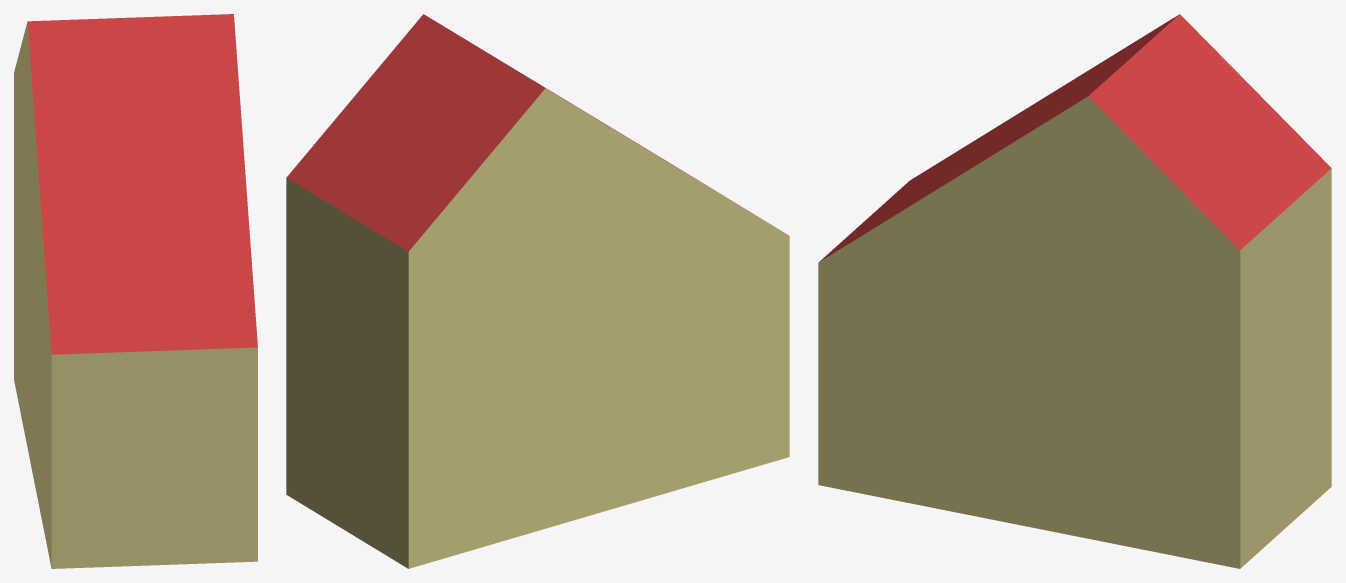
The picture shows the model from 3 angles, left to right: view 1: azimuth 30°, elevation 25°; view 2: azimuth 150°, elevation 25°; view 3: azimuth 270°, elevation 25°; orthographic projection. The views are drawn at different scales.
Bounding box in the file's own units: 12.41 × 16.21 × 15.42.
